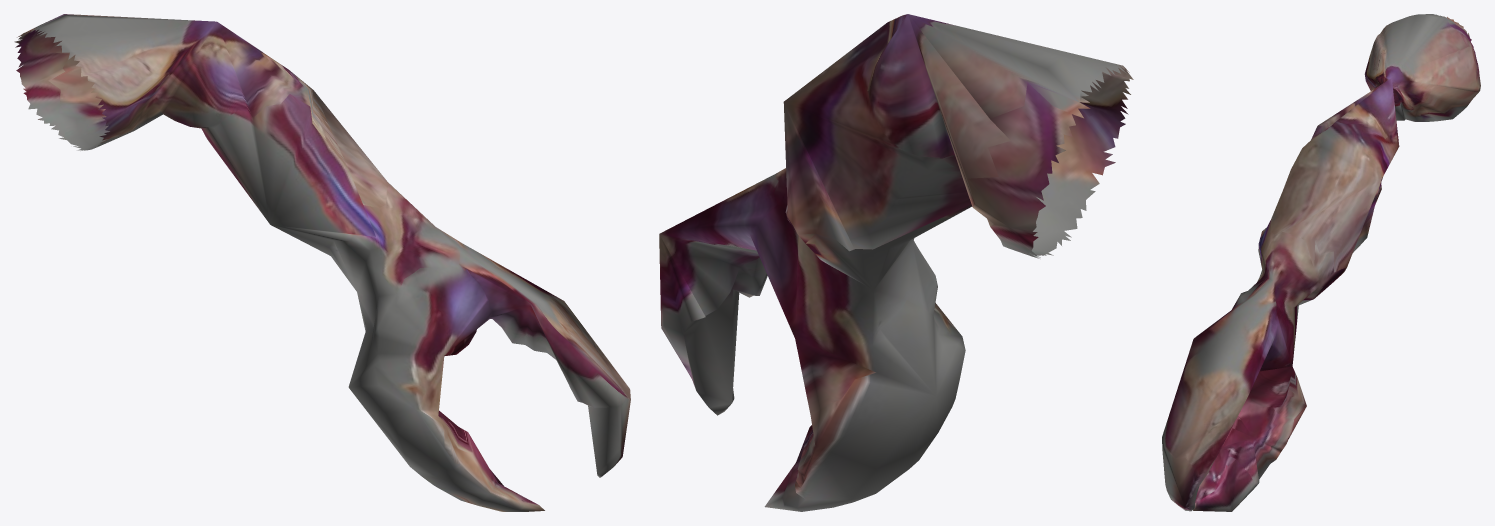
File: Alien_BrazoDer.obj
3 renders of one model, left to right at view 1: azimuth 30°, elevation 25°; view 2: azimuth 150°, elevation 25°; view 3: azimuth 270°, elevation 25°, orthographic. The views are drawn at different scales.
Parts seen in each view (by area): view 1: BrazoDer; view 2: BrazoDer; view 3: BrazoDer.
Boxes of the visible parts, x1,y1,x2,y2 form: BrazoDer: (14, 14, 630, 511); BrazoDer: (659, 14, 1133, 511); BrazoDer: (1162, 14, 1480, 511).
Bounding box in the file's own units: 0.2478 × 0.2516 × 0.1953.
